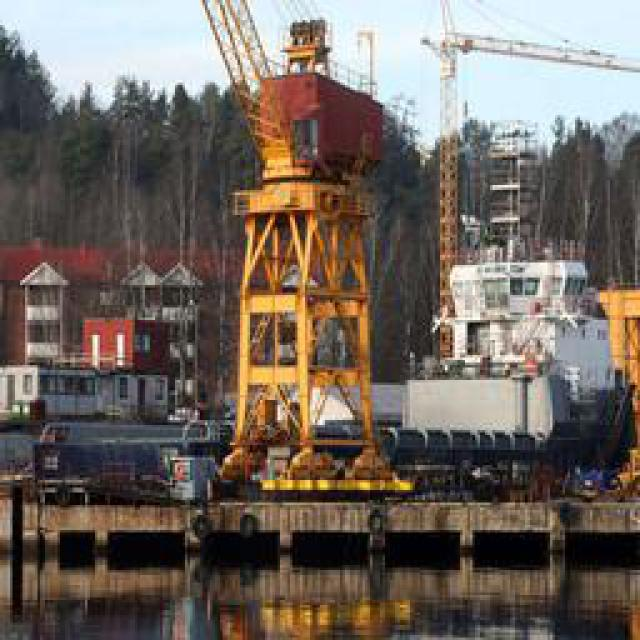Ship: (384, 260, 627, 488)
